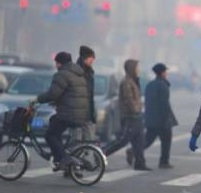person: (31, 49, 89, 179), (95, 57, 154, 173), (125, 61, 178, 171), (64, 44, 99, 179)
